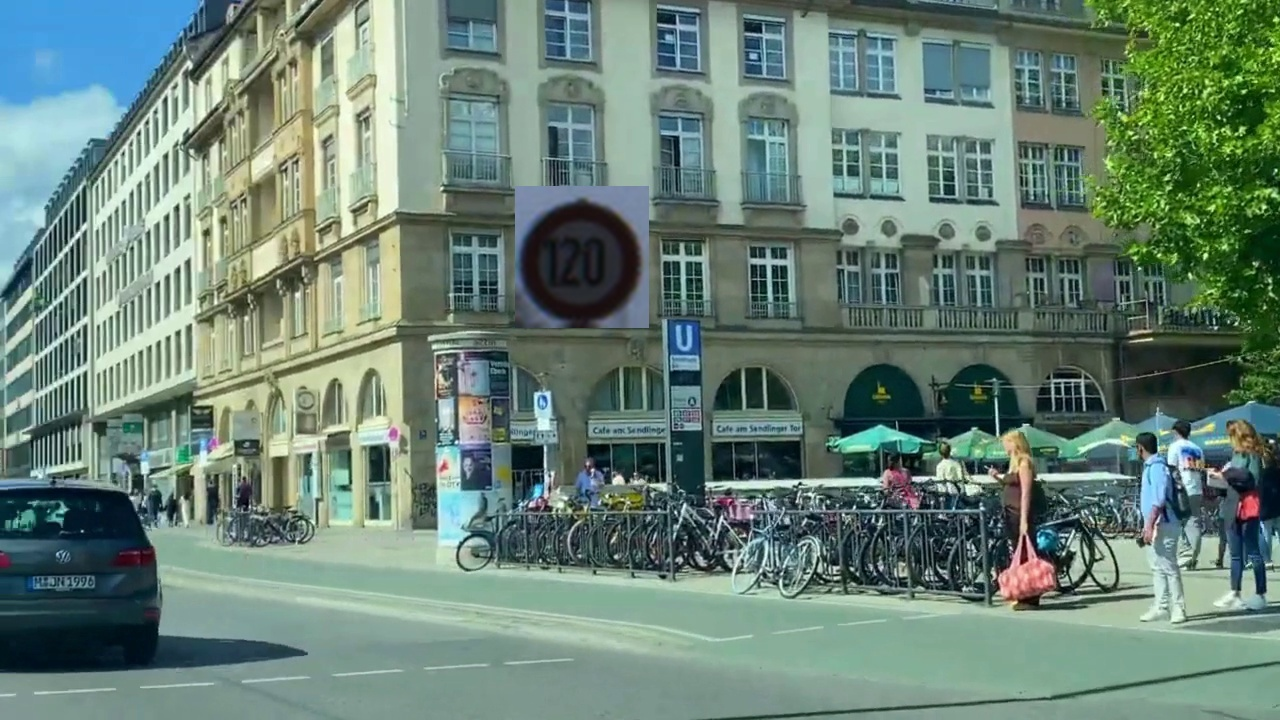Speed 120: (515, 186, 649, 328)
